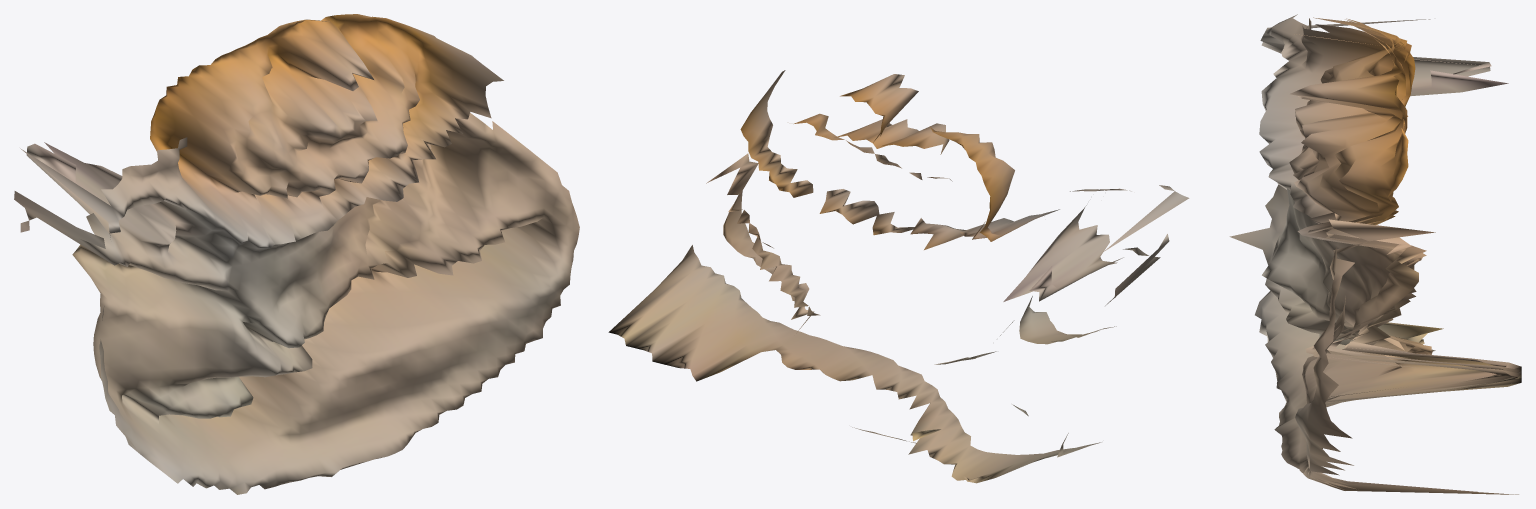
File: wordnumperiod202206-0102-5329-2498a27d-d4bd-4bde-bcac-e5036fb6eff0.gltf
3 views of the same model, side by side, from view 1: azimuth 30°, elevation 25°; view 2: azimuth 150°, elevation 25°; view 3: azimuth 270°, elevation 25° (orthographic). The views are drawn at different scales.
Size of the model in its own units: 57 by 45 by 29.76.
